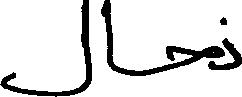X: (0, 0, 92, 96), (166, 41, 217, 75), (219, 12, 241, 74), (103, 0, 115, 75)
